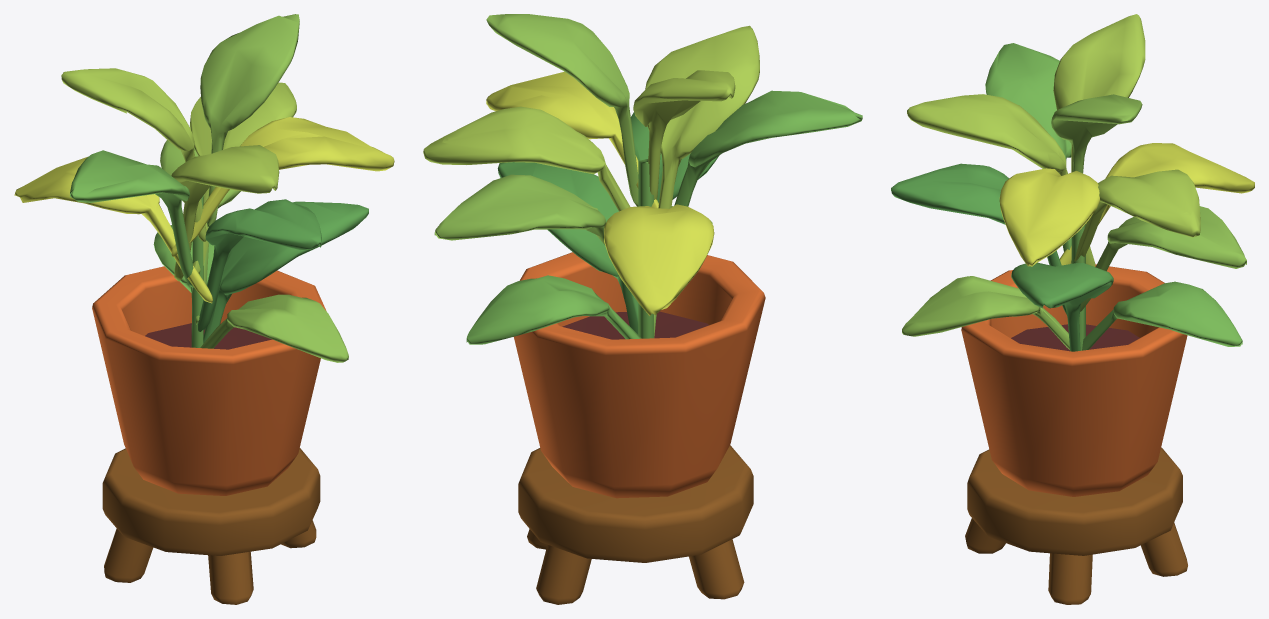
File: plant2.fbx
The picture shows the model from 3 angles, left to right: view 1: azimuth 30°, elevation 25°; view 2: azimuth 150°, elevation 25°; view 3: azimuth 270°, elevation 25°; orthographic projection. The views are drawn at different scales.
Parts seen in each view (by area): view 1: plant2; view 2: plant2; view 3: plant2.
Boxes of the visible parts, left/top/right/bottom form: plant2: left=14, top=14, right=394, bottom=604; plant2: left=423, top=14, right=862, bottom=604; plant2: left=891, top=14, right=1254, bottom=604.
Bounding box in the file's own units: 5.18 × 7.41 × 4.9.
